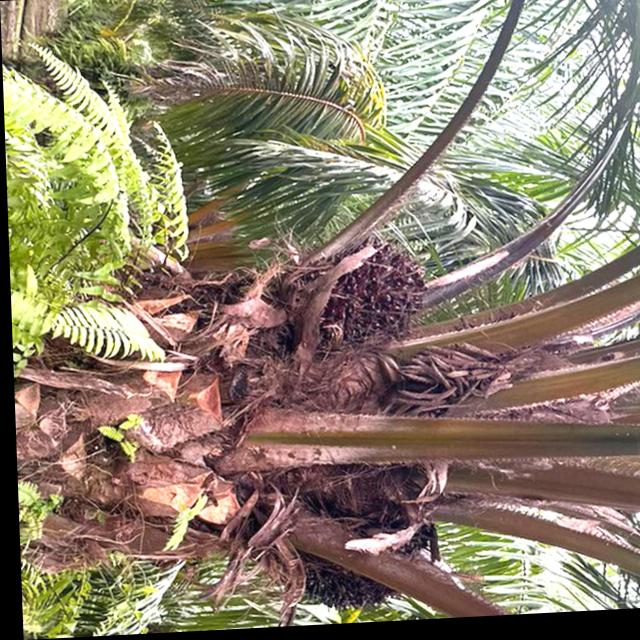ripe: (299, 235, 439, 370)
